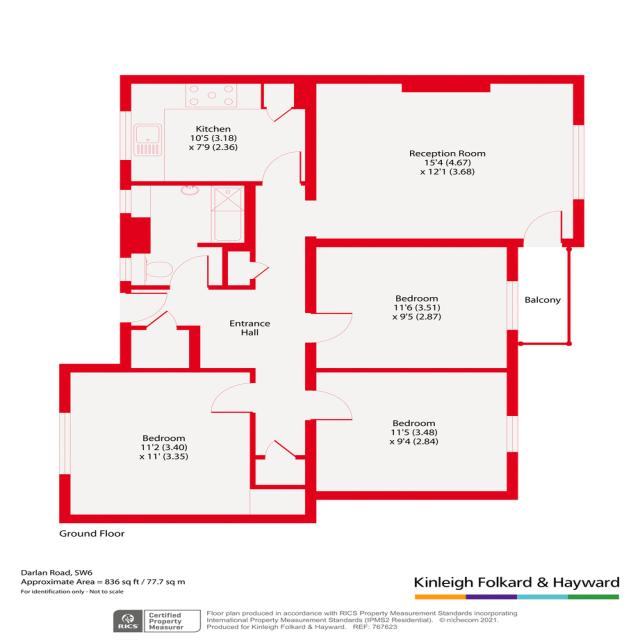DOOR: (521, 209, 565, 247), (305, 312, 354, 344), (120, 291, 169, 323), (209, 381, 256, 414), (260, 150, 303, 186), (305, 390, 353, 421), (169, 255, 210, 290)
ROOM: (305, 74, 585, 248), (58, 364, 317, 523), (305, 238, 518, 373), (305, 368, 518, 500), (119, 75, 317, 186)
WINDOW: (572, 124, 585, 200), (58, 412, 72, 475), (505, 280, 520, 332), (119, 111, 132, 162), (506, 415, 519, 453), (119, 189, 132, 215), (119, 257, 132, 282)
